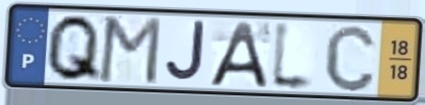A: (205, 19, 270, 89)
C: (322, 22, 379, 94)
J: (163, 19, 207, 85)
L: (268, 17, 318, 95)
M: (95, 15, 164, 87)
Q: (43, 12, 104, 84)
